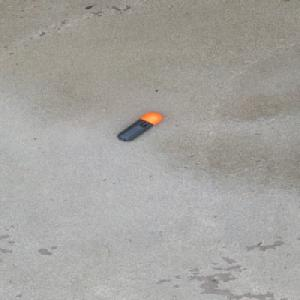PlasticPart: (116, 112, 163, 142)
